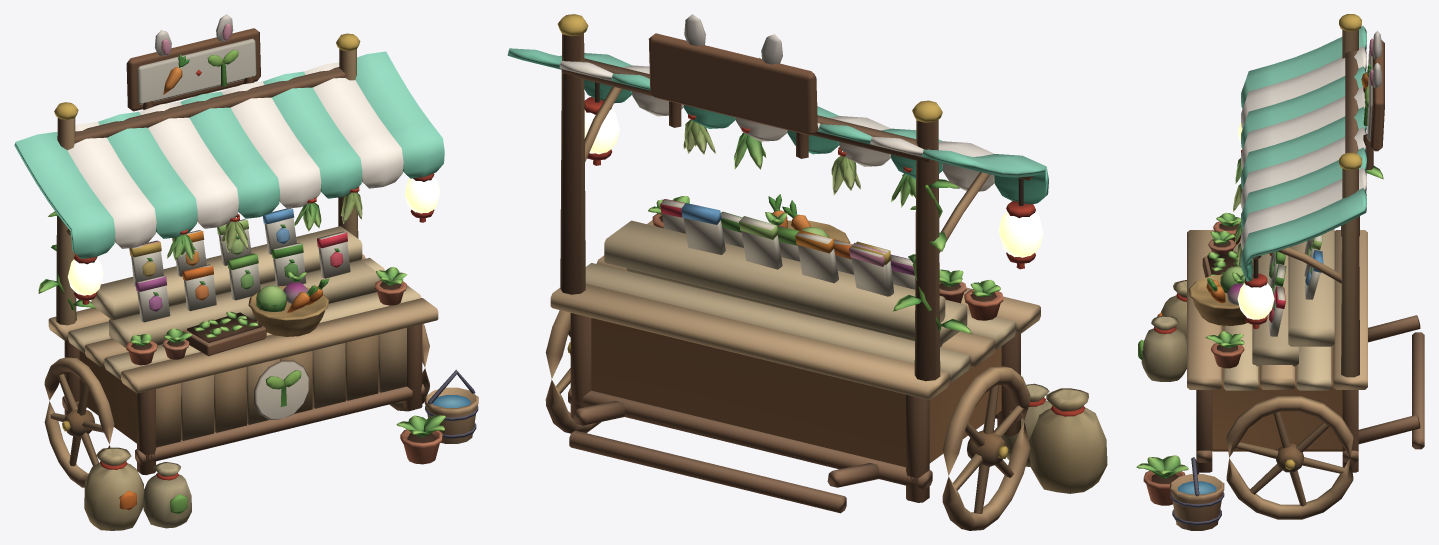
The model's file is poi-seedStall-0.glb.
3 views of the same model, side by side, from view 1: azimuth 30°, elevation 25°; view 2: azimuth 150°, elevation 25°; view 3: azimuth 270°, elevation 25° (orthographic). The views are drawn at different scales.
Visible parts, largest first — view 1: body, cloth, leaf, window_glow; view 2: body, cloth, leaf, window_glow; view 3: body, cloth, leaf, window_glow.
Boxes of the visible parts, box(x1,y1,x2,y2) form: body: box(44, 14, 478, 530); cloth: box(14, 51, 444, 258); leaf: box(38, 192, 445, 437); window_glow: box(67, 176, 440, 295); body: box(545, 14, 1107, 530); cloth: box(507, 48, 1048, 204); leaf: box(648, 119, 1000, 340); window_glow: box(584, 108, 1043, 257); body: box(1138, 14, 1424, 530); cloth: box(1241, 26, 1366, 281); leaf: box(1136, 158, 1383, 478); window_glow: box(1237, 122, 1274, 319).
Bounding box in the file's own units: 2.56 × 2.44 × 1.62.
